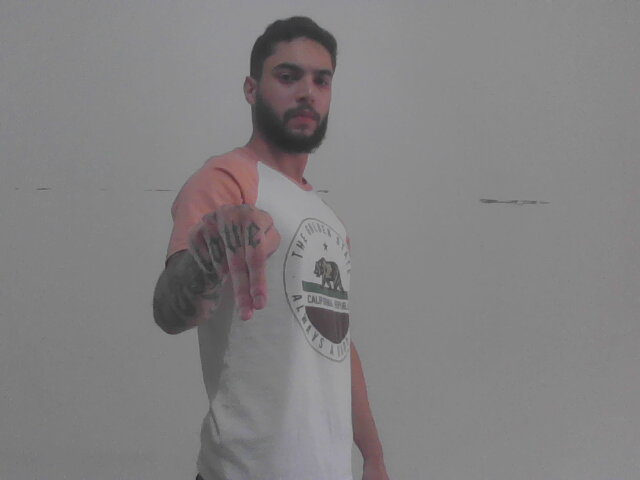n: (182, 197, 285, 319)
